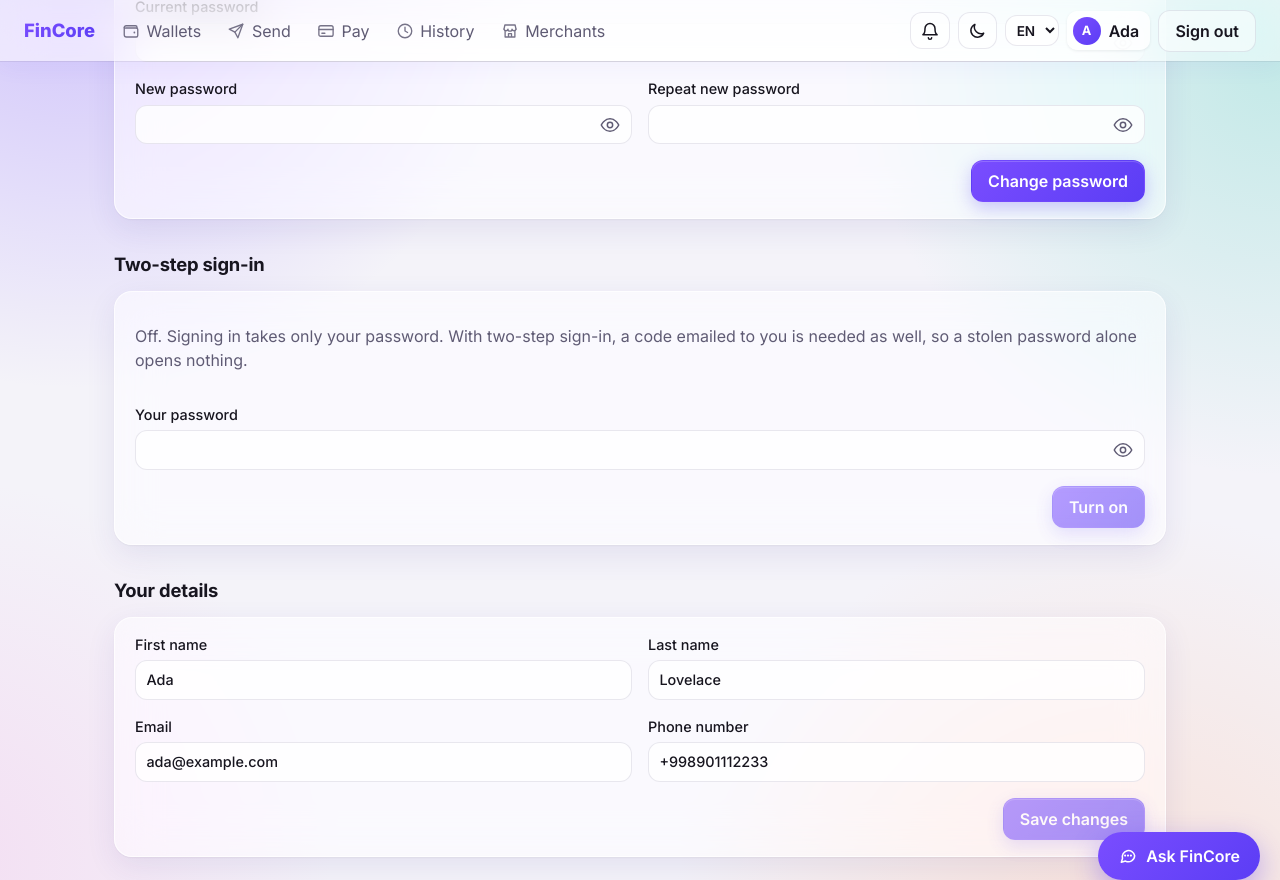
it: two-step sign-in on the Account page › says why when no code can be emailed
(page scrolled)
Type "correct-horse" into the password field labelled "Your password" at (640, 450), box [135,430,1145,470]
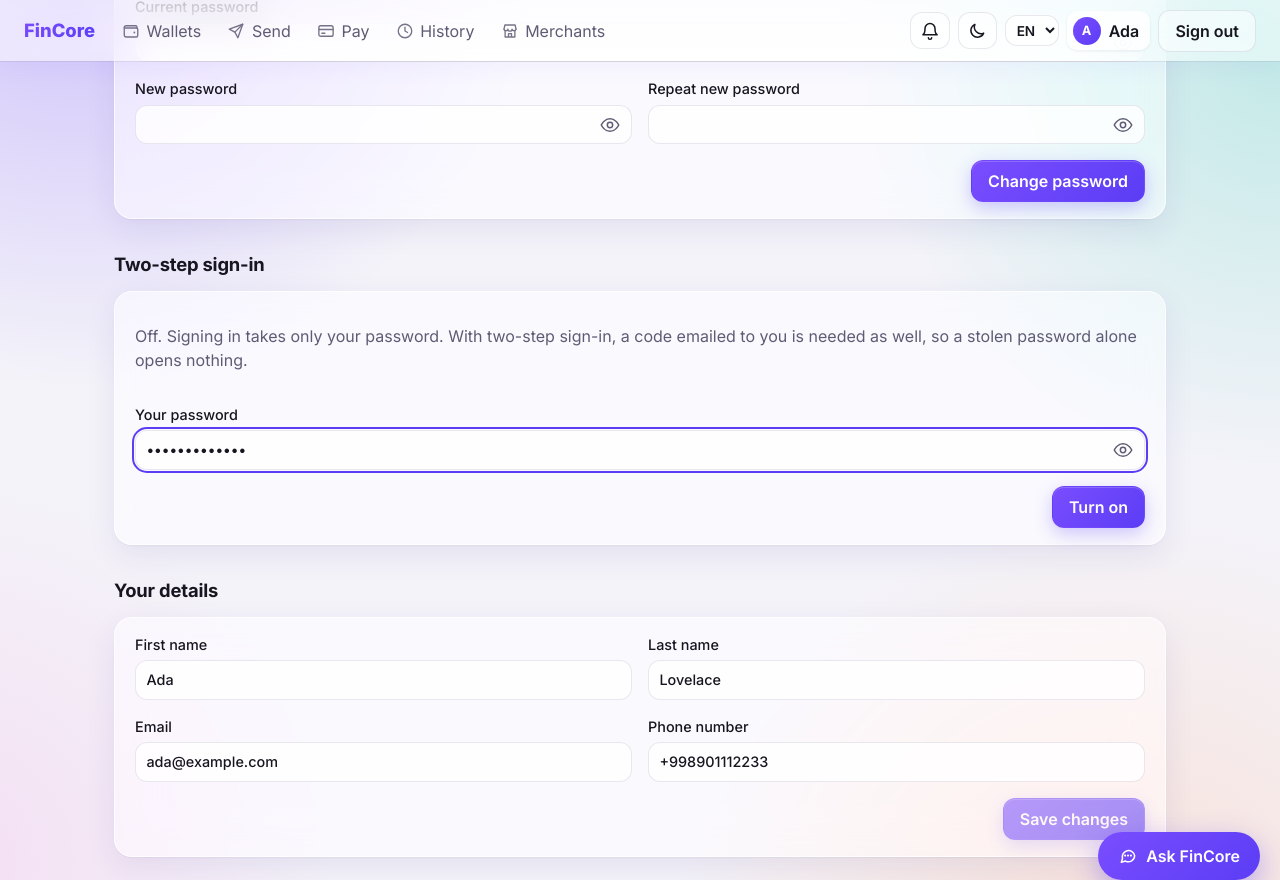
Click the button "Turn on" at (1098, 507), box [1052,486,1145,528]
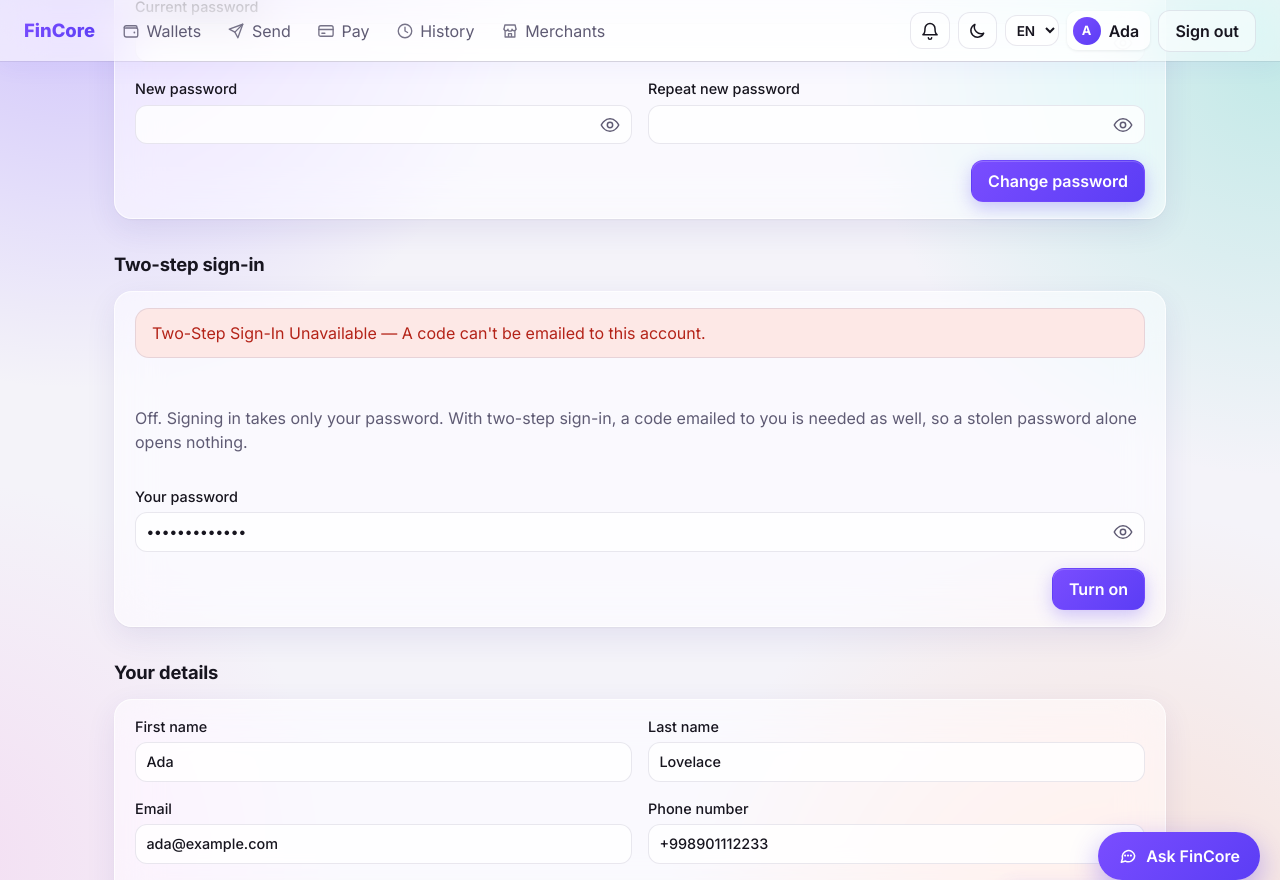
Expected: the text "Two-Step Sign-In Unavailable — A code can't be emailed to this account." is shown, [135,308,1145,358]
